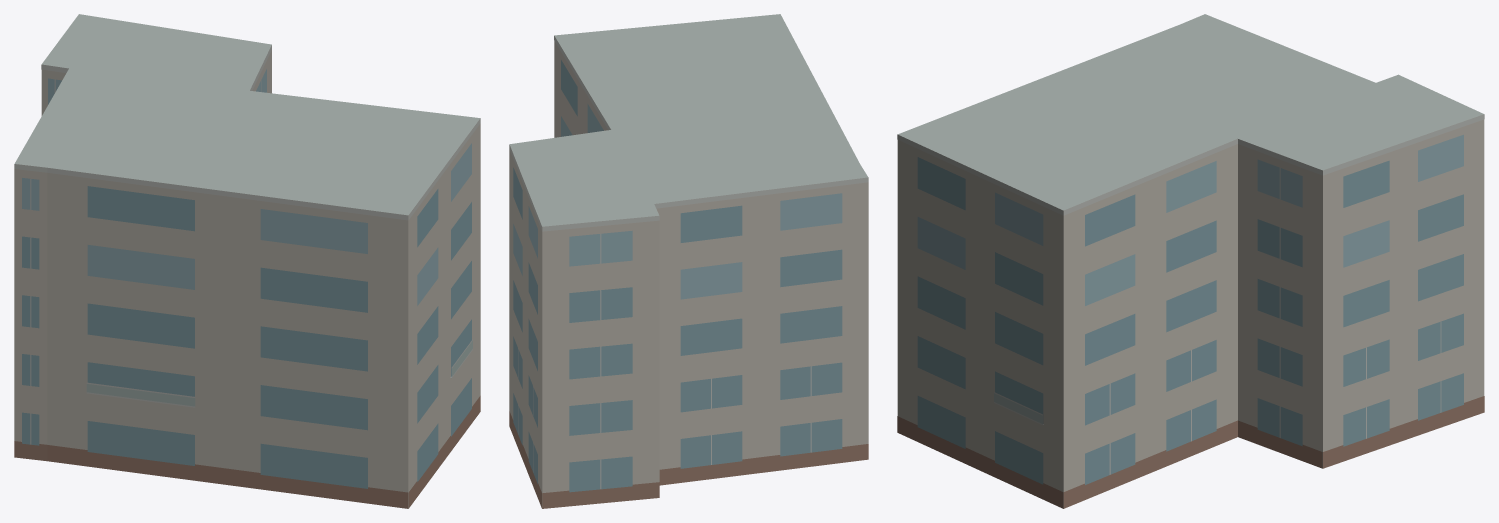
File: survey-upis-32872385.glb
3 views of the same model, side by side, from view 1: azimuth 30°, elevation 25°; view 2: azimuth 150°, elevation 25°; view 3: azimuth 270°, elevation 25° (orthographic). The views are drawn at different scales.
Parts seen in each view (by area): view 1: survey-upis-32872385.tmp; view 2: survey-upis-32872385.tmp; view 3: survey-upis-32872385.tmp.
Boxes of the visible parts, x1,y1,x2,y2 form: survey-upis-32872385.tmp: [14, 14, 480, 508]; survey-upis-32872385.tmp: [509, 14, 868, 508]; survey-upis-32872385.tmp: [897, 14, 1484, 508].
Size of the model in its own units: 19.94 by 14.1 by 25.15.
